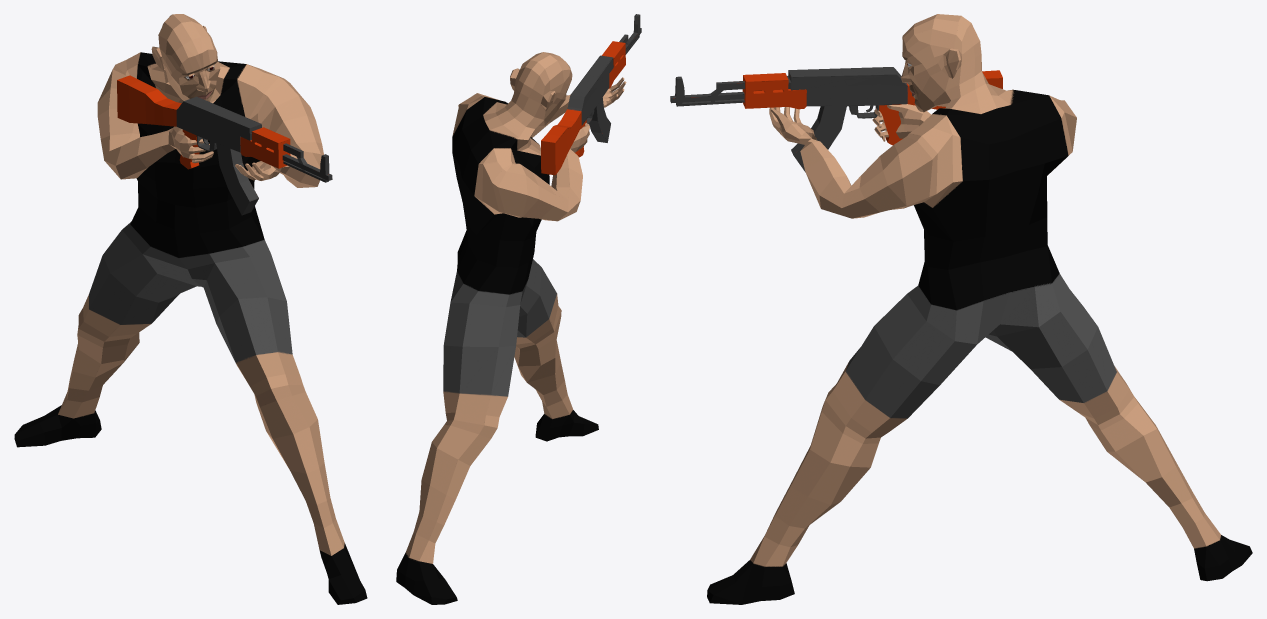
The model's file is PlayerShoot(13).obj.
3 renders of one model, left to right at view 1: azimuth 30°, elevation 25°; view 2: azimuth 150°, elevation 25°; view 3: azimuth 270°, elevation 25°, orthographic. The views are drawn at different scales.
Visible parts, largest first — view 1: Plane002, Object001; view 2: Plane002, Object001; view 3: Plane002, Object001.
Boxes of the visible parts, x1=… form: Plane002: x1=14, y1=14, x2=367, y2=604; Object001: x1=117, y1=75, x2=332, y2=215; Plane002: x1=396, y1=52, x2=626, y2=604; Object001: x1=541, y1=14, x2=641, y2=175; Plane002: x1=707, y1=14, x2=1252, y2=604; Object001: x1=670, y1=67, x2=1002, y2=172.
Size of the model in its own units: 539 by 1632 by 1569.
